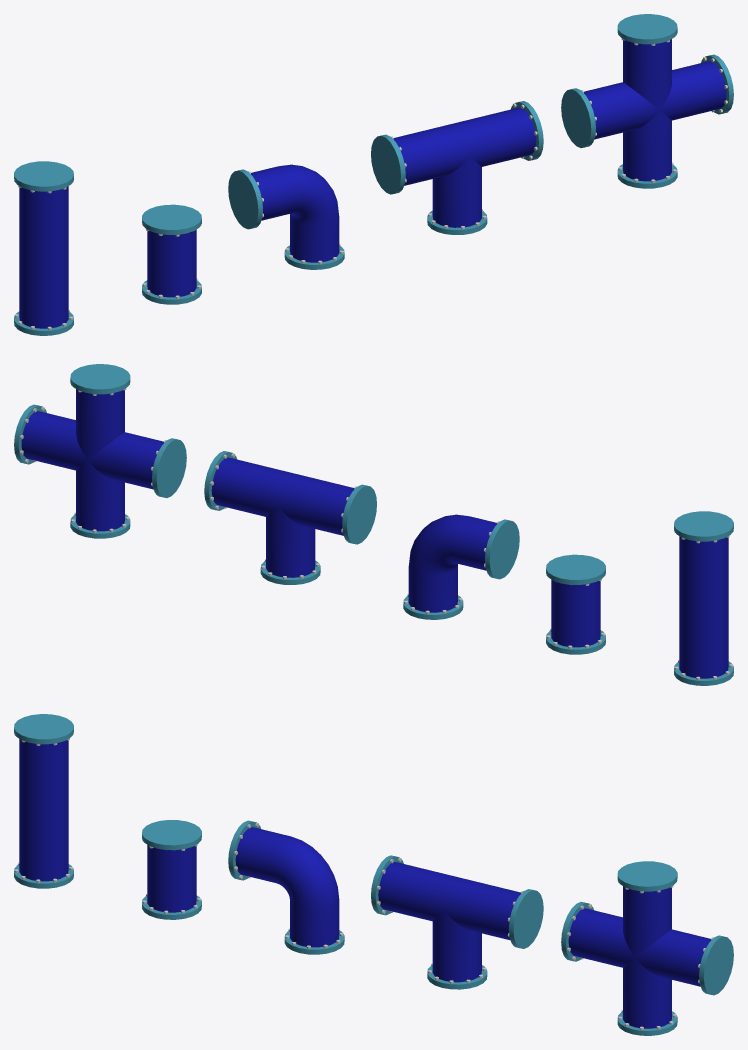
The model's file is modular_pipes_sketchfab.fbx.
3 views of the same model, one above another, from view 1: azimuth 30°, elevation 25°; view 2: azimuth 150°, elevation 25°; view 3: azimuth 330°, elevation 25° (orthographic).
Visible parts, largest first — view 1: Object003, Object004, Object001, right_bend, Object002; view 2: Object003, Object004, Object001, right_bend, Object002; view 3: Object003, Object004, Object001, right_bend, Object002.
Boxes of the visible parts, box(x1,y1,x2,y2) form: Object003: box(561, 14, 733, 188); Object004: box(371, 101, 543, 234); Object001: box(14, 161, 73, 335); right_bend: box(228, 164, 344, 269); Object002: box(142, 204, 201, 304); Object003: box(14, 364, 186, 538); Object004: box(204, 451, 376, 584); Object001: box(674, 511, 733, 685); right_bend: box(403, 514, 519, 619); Object002: box(546, 554, 605, 654); Object003: box(561, 861, 733, 1035); Object004: box(371, 855, 543, 989); Object001: box(14, 714, 73, 888); right_bend: box(228, 820, 344, 954); Object002: box(142, 820, 201, 919).
Bounding box in the file's own units: 1161 × 236 × 86.61.
